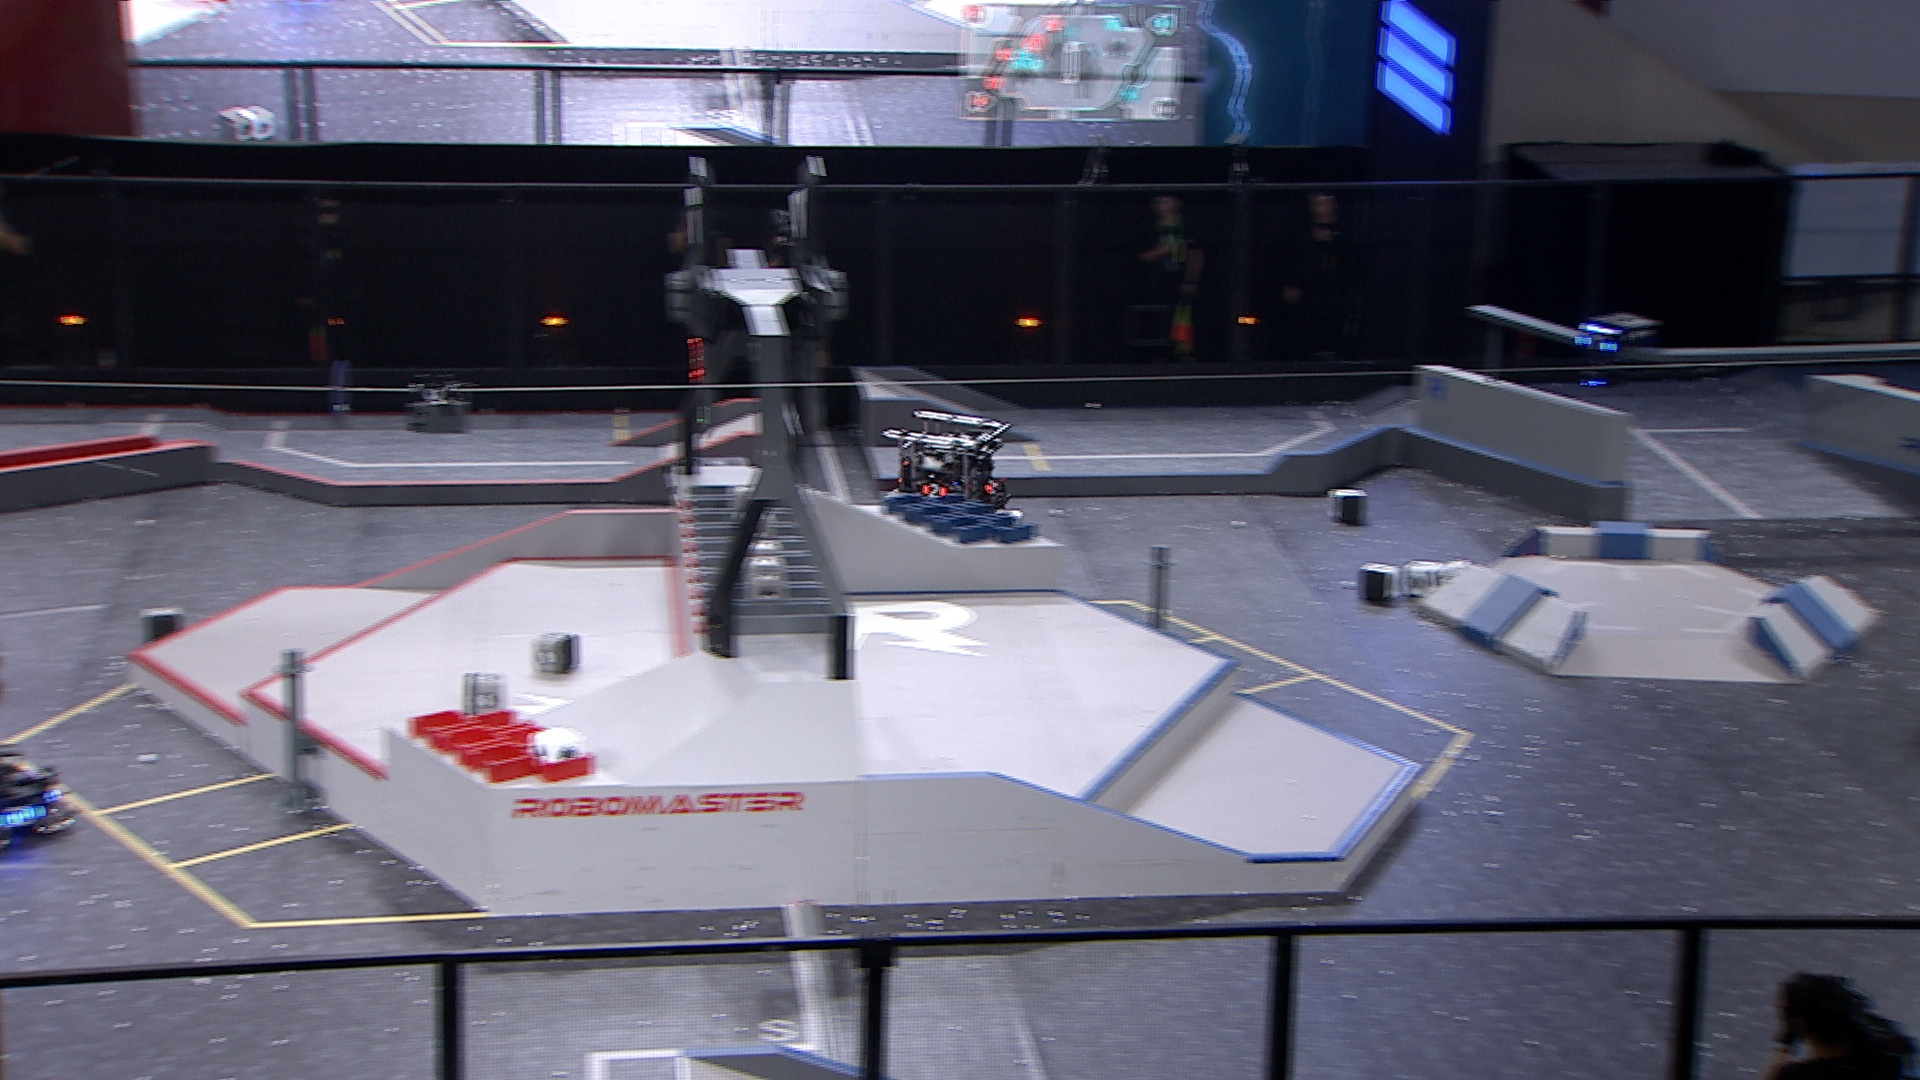armor: (1572, 334, 1618, 353), (920, 483, 948, 500), (982, 479, 998, 496)
car: (882, 409, 1011, 522)
watcher: (1567, 311, 1650, 389)
